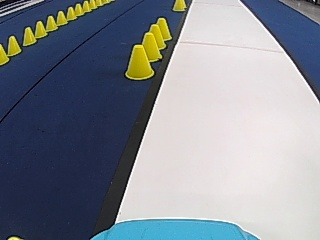cone: (124, 44, 154, 80), (140, 32, 162, 62), (147, 24, 165, 49), (155, 17, 171, 40), (7, 35, 21, 55), (23, 26, 35, 45), (34, 20, 47, 37), (0, 44, 9, 64), (46, 15, 57, 30), (56, 11, 67, 24), (172, 0, 185, 11), (66, 7, 76, 20), (74, 3, 83, 16), (82, 1, 89, 12), (89, 0, 95, 9)
